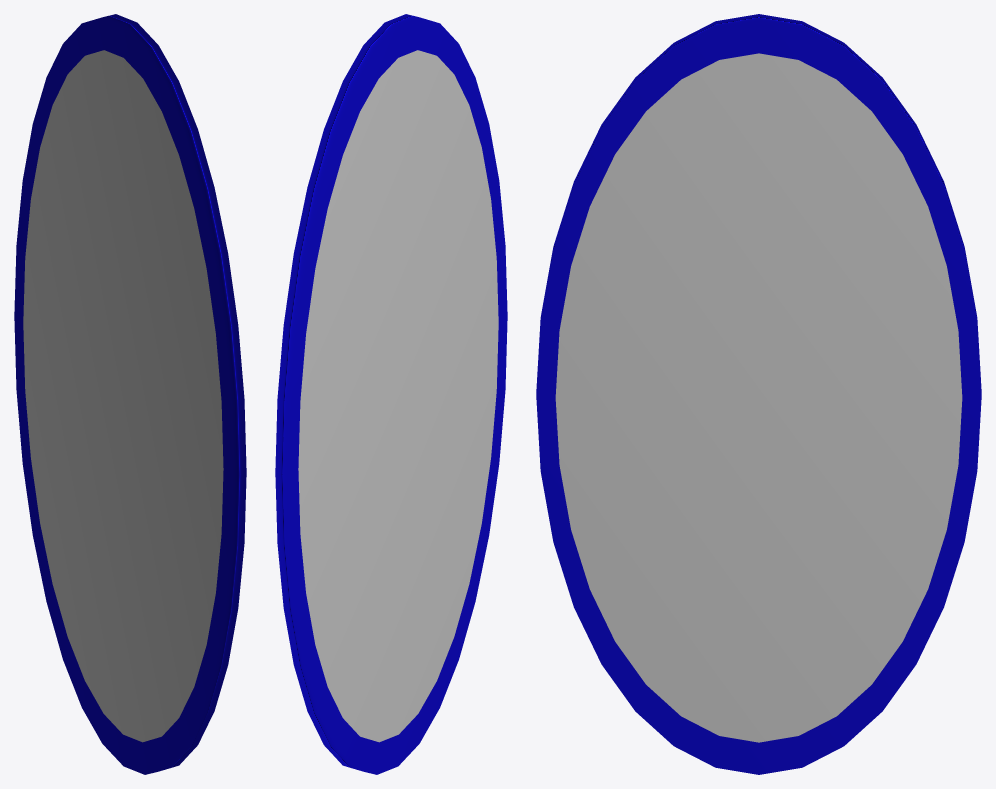
Rendered from PortalB.fbx.
3 views of the same model, side by side, from view 1: azimuth 30°, elevation 25°; view 2: azimuth 150°, elevation 25°; view 3: azimuth 270°, elevation 25° (orthographic).
Parts seen in each view (by area): view 1: Blue portal, Blue portal.001; view 2: Blue portal, Blue portal.001; view 3: Blue portal, Blue portal.001.
Part boxes in pixels (x1,y1,x2,y2): Blue portal: [23, 50, 223, 742]; Blue portal.001: [14, 14, 246, 774]; Blue portal: [298, 50, 498, 742]; Blue portal.001: [275, 14, 507, 774]; Blue portal: [555, 53, 962, 742]; Blue portal.001: [536, 14, 981, 774].
Bounding box in the file's own units: 11.12 × 536 × 287.
